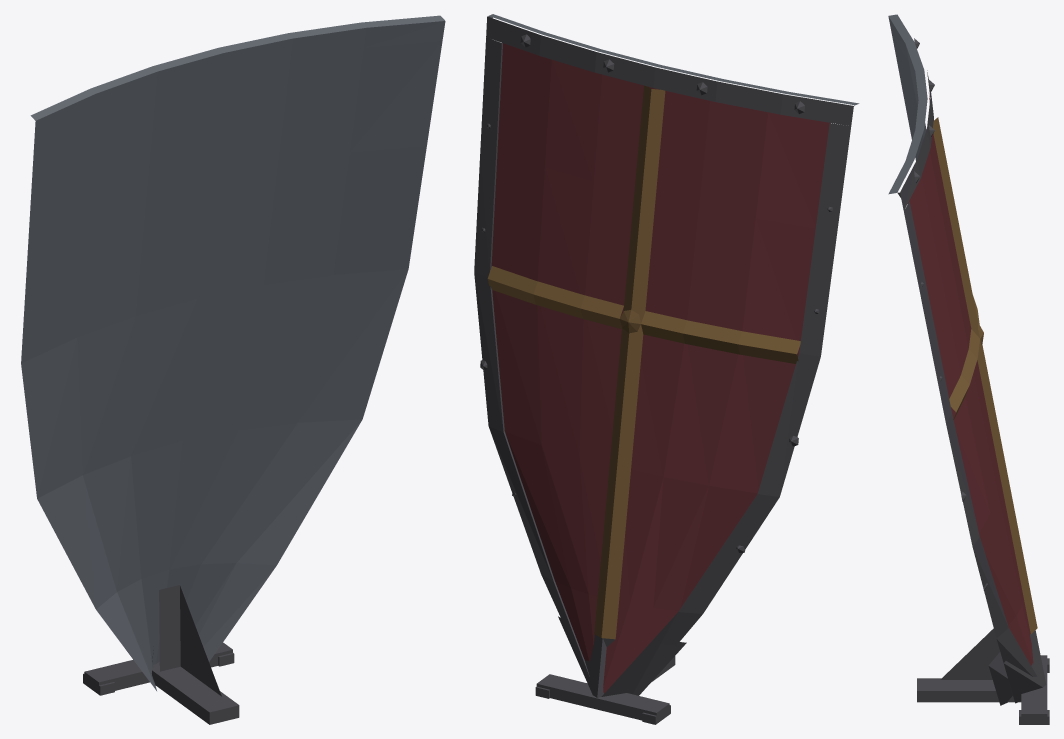
Rendered from scarab_buckler.glb.
3 views of the same model, side by side, from view 1: azimuth 30°, elevation 25°; view 2: azimuth 150°, elevation 25°; view 3: azimuth 270°, elevation 25° (orthographic). The views are drawn at different scales.
Parts seen in each view (by area): view 1: 354_heater_knight_shield; view 2: 354_heater_knight_shield; view 3: 354_heater_knight_shield.
Boxes of the visible parts, left/top/right/bottom form: 354_heater_knight_shield: left=21, top=15, right=445, bottom=724; 354_heater_knight_shield: left=474, top=14, right=859, bottom=724; 354_heater_knight_shield: left=888, top=14, right=1049, bottom=724.
Bounding box in the file's own units: 0.5428 × 0.85 × 0.2074.
